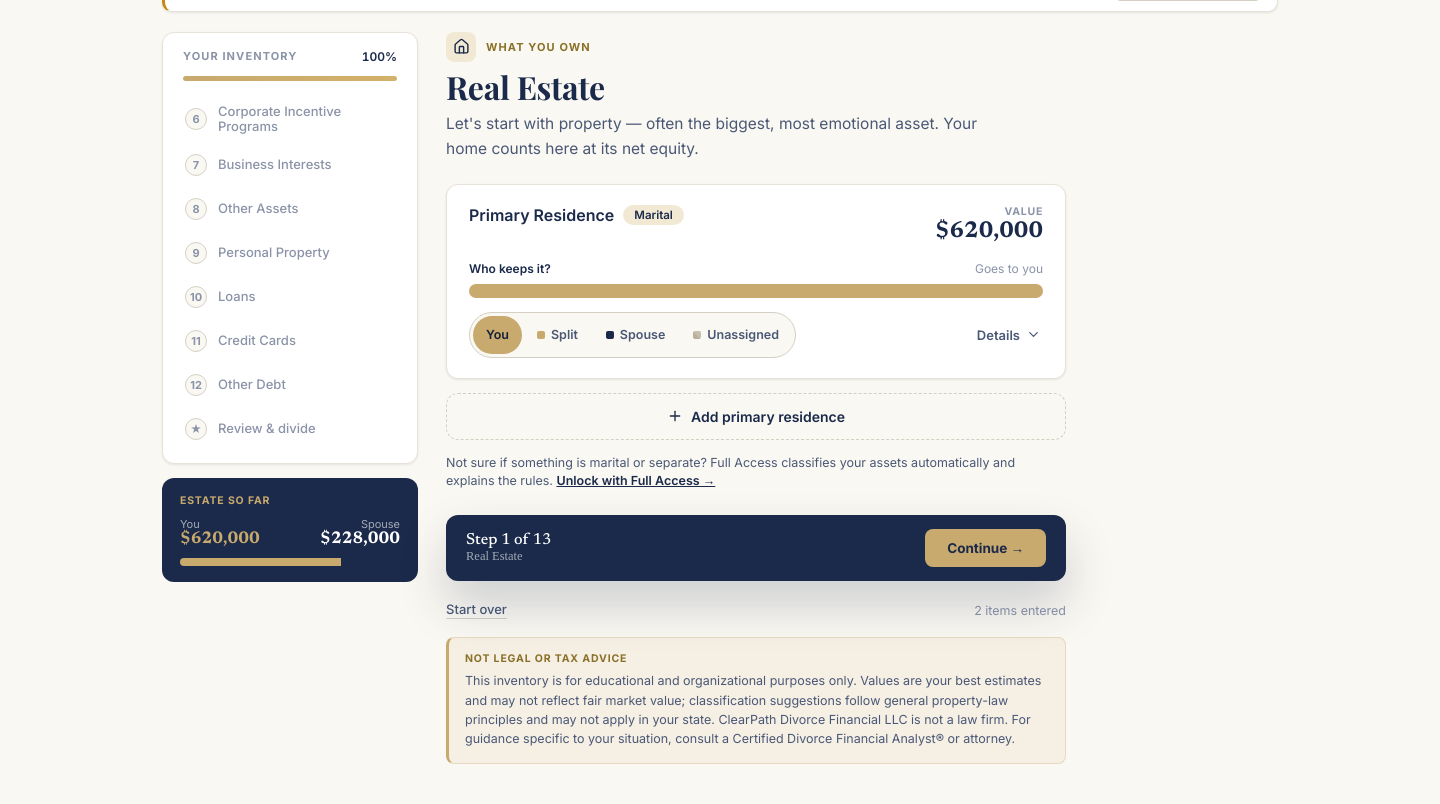
Test: MaritalEstateInventory — review + Blueprint write › the review step renders the divided-estate summary
(page scrolled)
What coordinates should you click on to do the following:
click the button "★ Review & divide"
I would click on:
 (289, 429)
Its box is x1=177 y1=407 x2=401 y2=451.
(page scrolled)
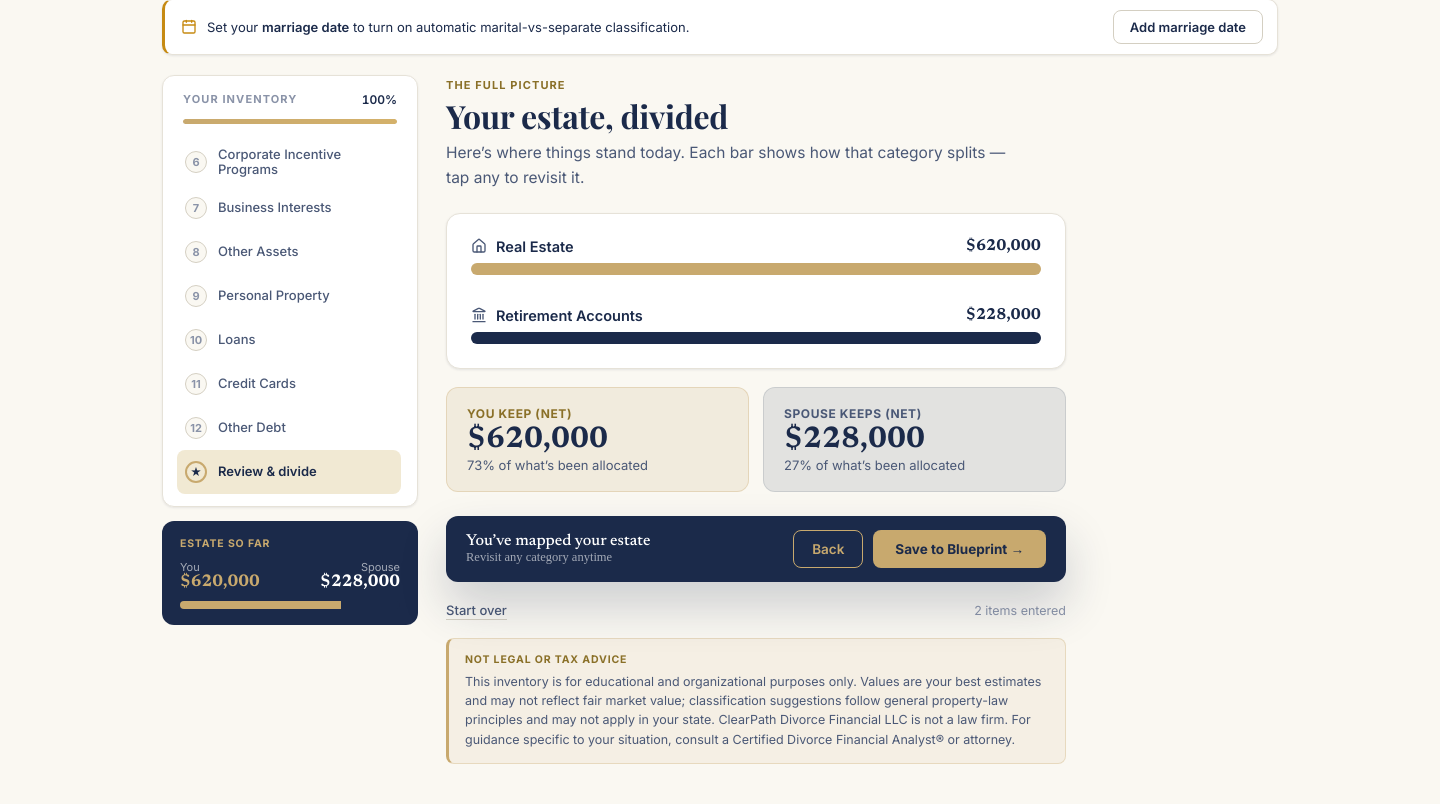
Expected: the heading "Your estate, divided" is shown, x1=446 y1=94 x2=728 y2=136
Expected: the text "You keep (net)" is shown, x1=467 y1=406 x2=572 y2=421
Expected: the text "Spouse keeps (net)" is shown, x1=784 y1=406 x2=922 y2=421
